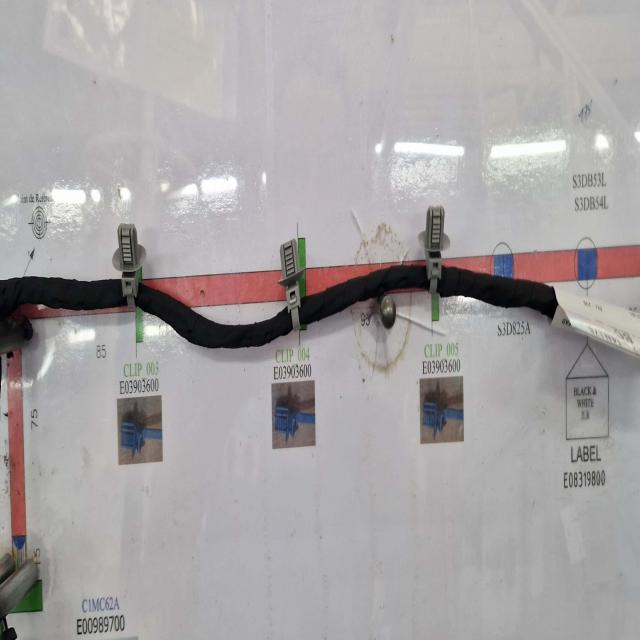Clip: (112, 224, 147, 314), (420, 205, 452, 298), (277, 235, 306, 330)
Info: (553, 282, 640, 362)
MHEV_N11_Cable: (134, 285, 296, 353), (303, 263, 441, 329), (442, 267, 570, 324), (0, 273, 125, 316)
